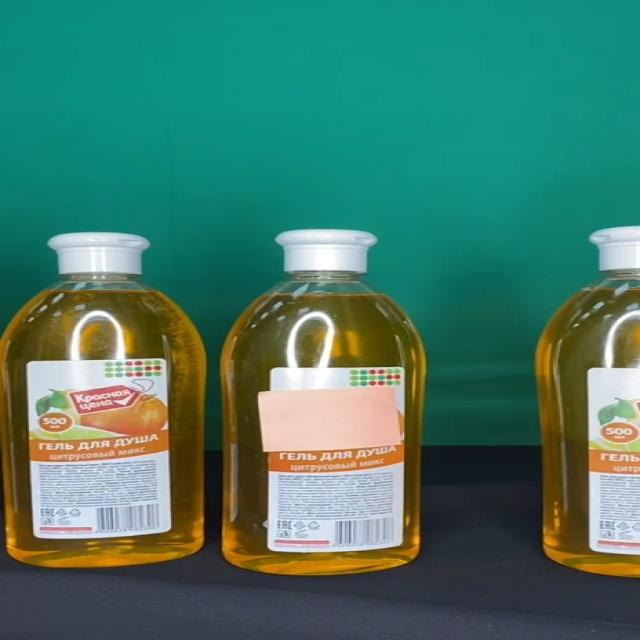Bottle: (223, 229, 426, 575), (3, 232, 206, 569)
Cap: (275, 230, 378, 273), (46, 232, 149, 274)
